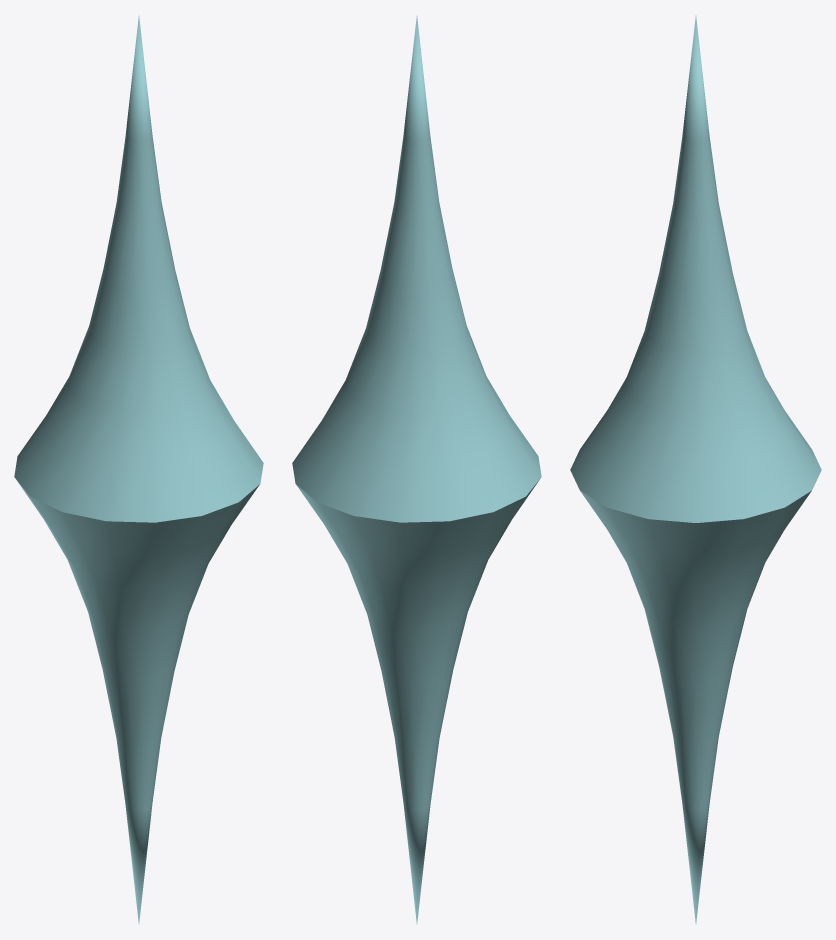
The model's file is Peak_02.FBX.
3 renders of one model, left to right at view 1: azimuth 30°, elevation 25°; view 2: azimuth 150°, elevation 25°; view 3: azimuth 270°, elevation 25°, orthographic.
Visible parts, largest first — view 1: Peak_02; view 2: Peak_02; view 3: Peak_02.
Boxes of the visible parts, left/top/right/bottom form: Peak_02: left=14, top=15, right=263, bottom=924; Peak_02: left=292, top=15, right=541, bottom=924; Peak_02: left=570, top=15, right=821, bottom=924.
Size of the model in its own units: 0.5 by 2 by 0.5.
